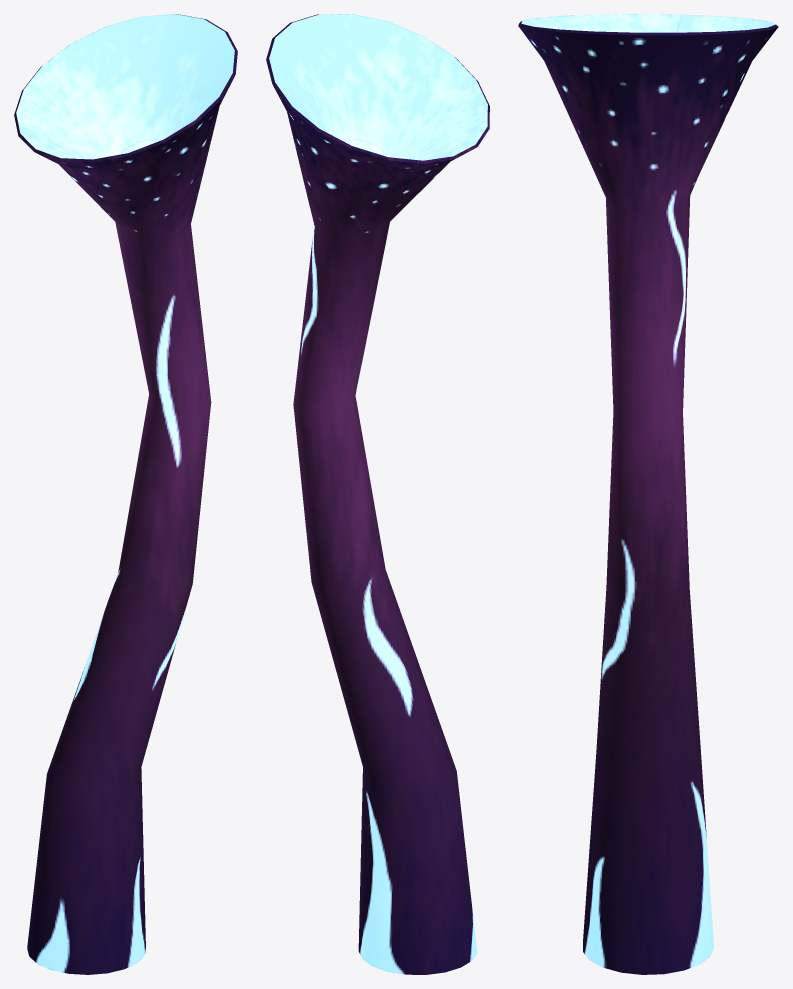
Rendered from Longshroom.fbx.
3 renders of one model, left to right at view 1: azimuth 30°, elevation 25°; view 2: azimuth 150°, elevation 25°; view 3: azimuth 270°, elevation 25°, orthographic. The views are drawn at different scales.
Parts seen in each view (by area): view 1: Longshroom; view 2: Longshroom; view 3: Longshroom.
Boxes of the visible parts, x1=… form: Longshroom: x1=14, y1=14, x2=237, y2=974; Longshroom: x1=266, y1=14, x2=489, y2=974; Longshroom: x1=518, y1=14, x2=778, y2=974.
Size of the model in its own units: 76.01 by 339 by 81.29.
